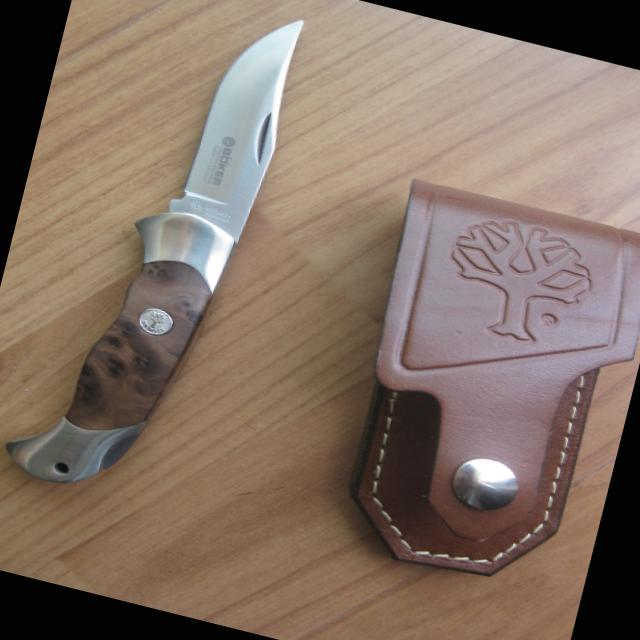knife: (0, 0, 324, 527)
